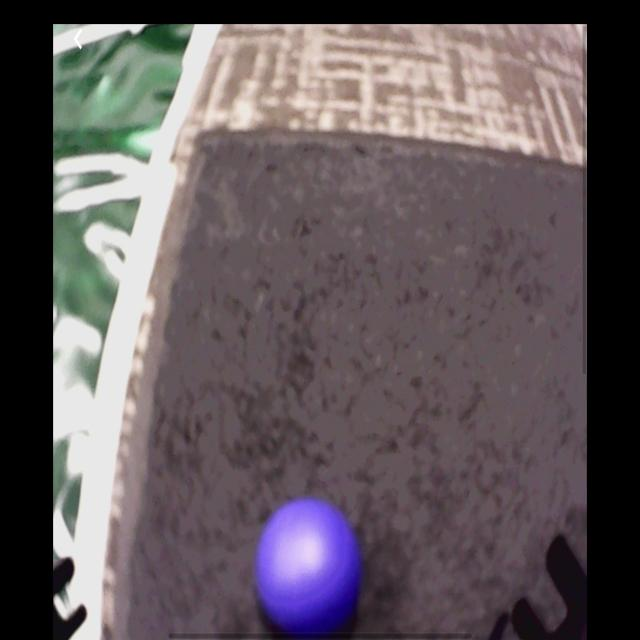ball: (257, 502, 363, 634)
